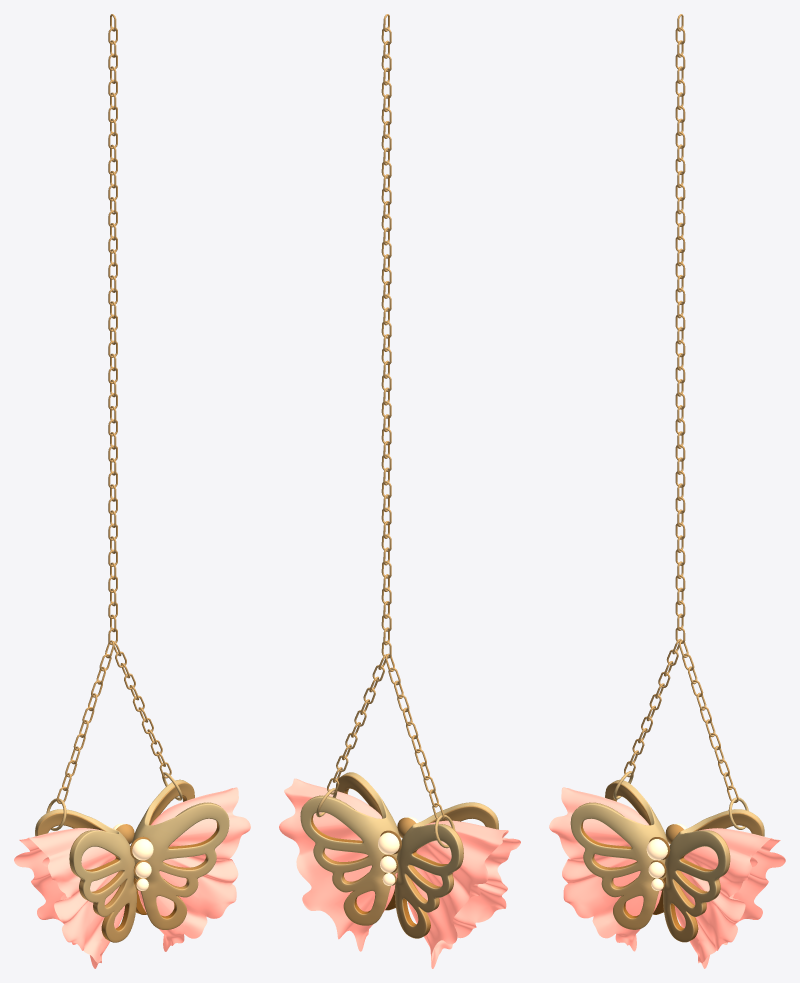
The model's file is earrings.fbx.
3 views of the same model, side by side, from view 1: azimuth 30°, elevation 25°; view 2: azimuth 150°, elevation 25°; view 3: azimuth 330°, elevation 25° (orthographic). The views are drawn at different scales.
Visible parts, largest first — view 1: polySurface3; view 2: polySurface3; view 3: polySurface3.
Part boxes in pixels (x1=…): polySurface3: x1=14, y1=14, x2=250, y2=968; polySurface3: x1=279, y1=14, x2=520, y2=968; polySurface3: x1=549, y1=14, x2=785, y2=968.
Size of the model in its own units: 32.61 by 137 by 11.63.
